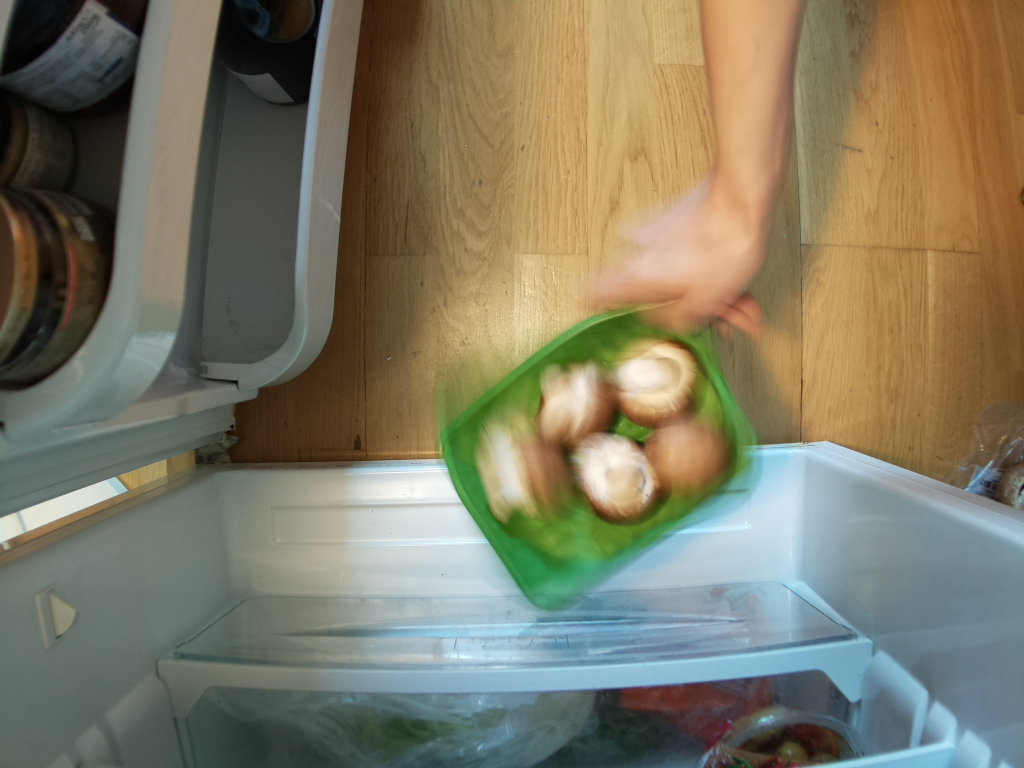mushrooms: (441, 309, 755, 618)
